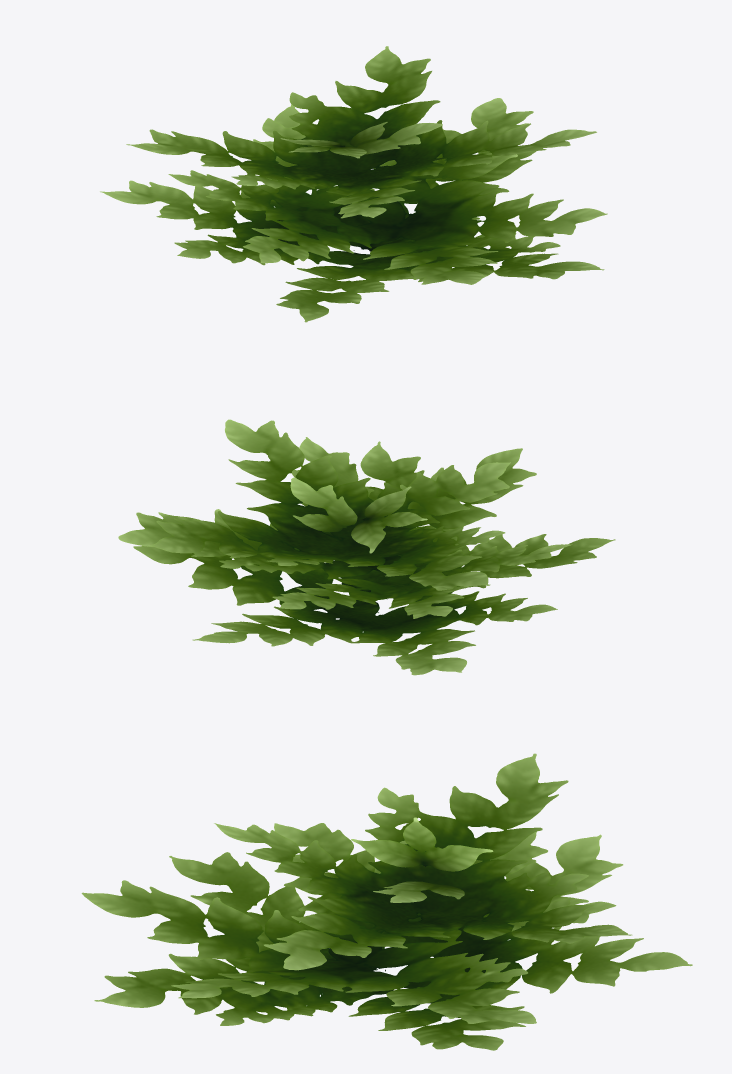
The model's file is Leafyplant_big.fbx.
The picture shows the model from 3 angles, top to bottom: view 1: azimuth 30°, elevation 25°; view 2: azimuth 150°, elevation 25°; view 3: azimuth 270°, elevation 25°; orthographic projection. The views are drawn at different scales.
Parts seen in each view (by area): view 1: Leafybushbig; view 2: Leafybushbig; view 3: Leafybushbig.
Part boxes in pixels (x1,y1,x2,y2): Leafybushbig: [100, 46, 607, 322]; Leafybushbig: [118, 419, 615, 675]; Leafybushbig: [81, 753, 692, 1050].
Bounding box in the file's own units: 303 × 78.05 × 346.
